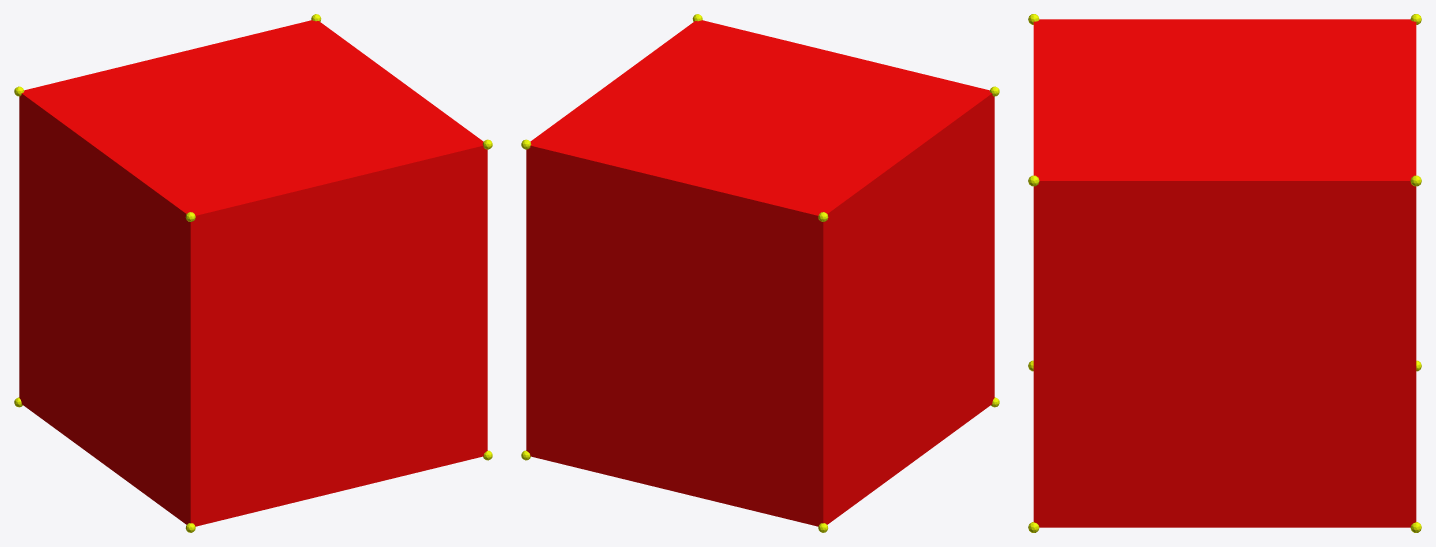
The model's file is cubo_vertices.glb.
The picture shows the model from 3 angles, left to right: view 1: azimuth 30°, elevation 25°; view 2: azimuth 150°, elevation 25°; view 3: azimuth 270°, elevation 25°; orthographic projection. The views are drawn at different scales.
Parts seen in each view (by area): view 1: Box002; view 2: Box002; view 3: Box002, Box001.
Boxes of the visible parts, x1,y1,x2,y2 form: Box002: [19, 20, 487, 526]; Box002: [526, 20, 994, 526]; Box002: [1033, 19, 1416, 527]; Box001: [1028, 14, 1421, 532].
Size of the model in its own units: 0.5225 by 0.5232 by 0.5232.
